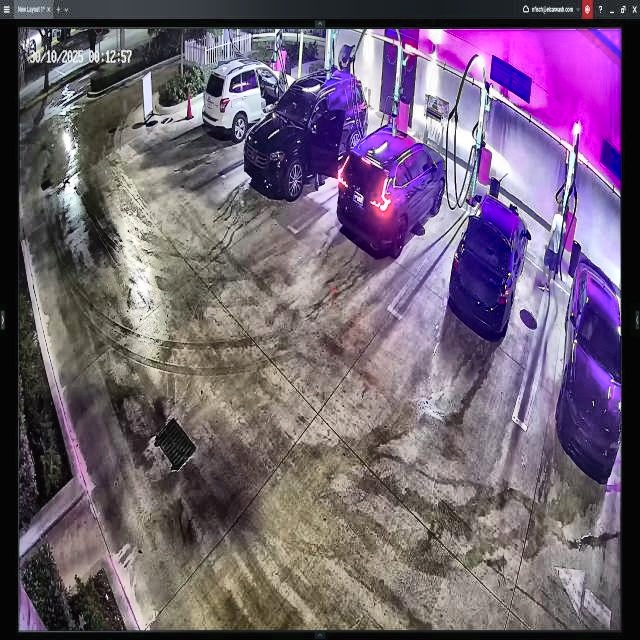Car: (247, 72, 367, 198), (339, 123, 446, 254), (452, 191, 527, 338)
